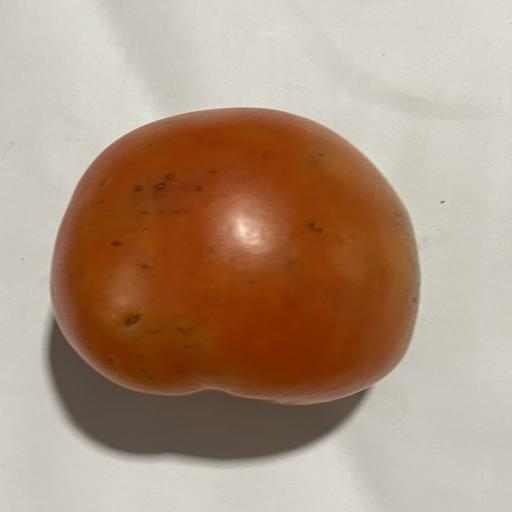ripe: (51, 108, 419, 405)
